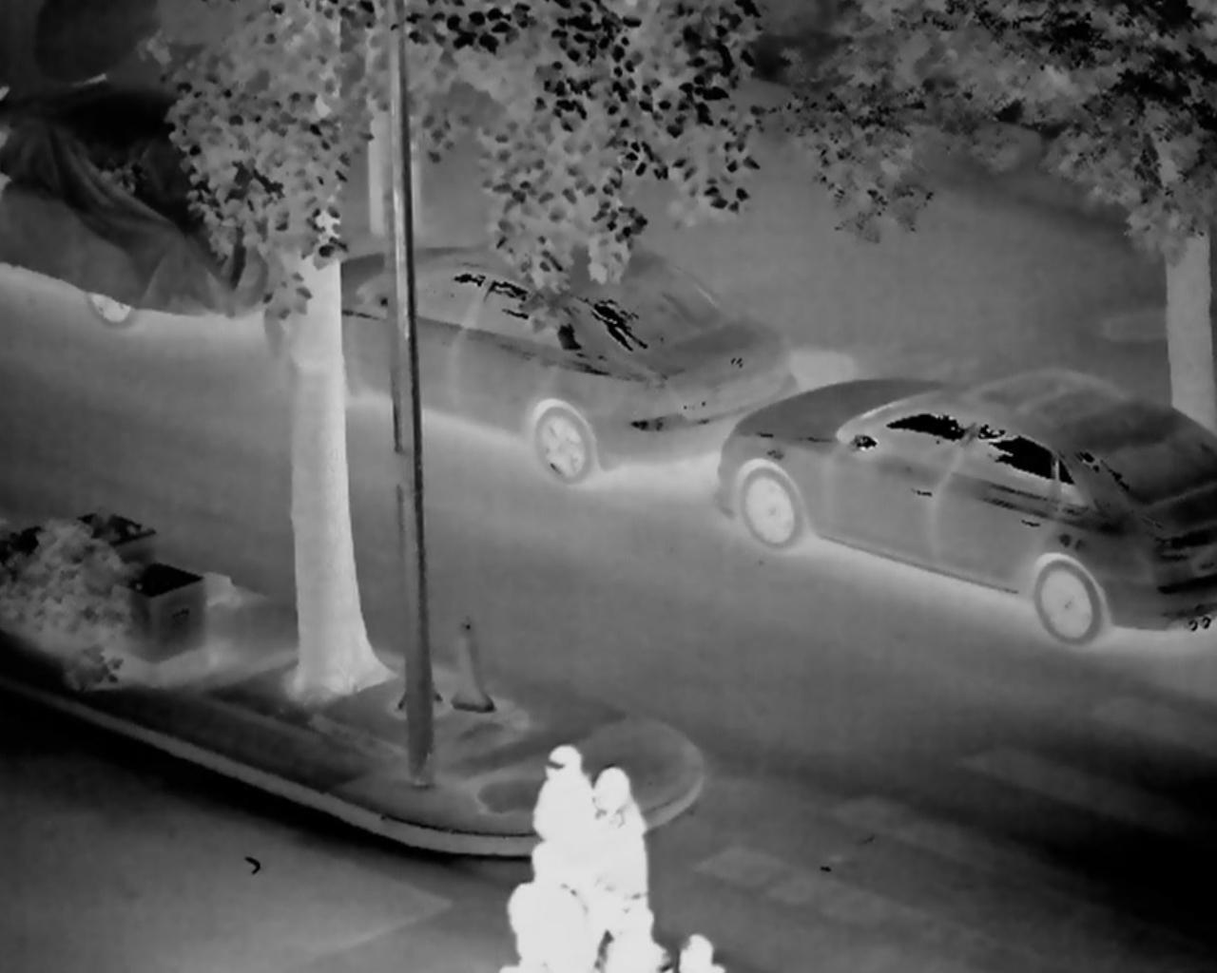person: (520, 737, 613, 916), (596, 768, 671, 958), (518, 849, 586, 973), (659, 896, 726, 973)
